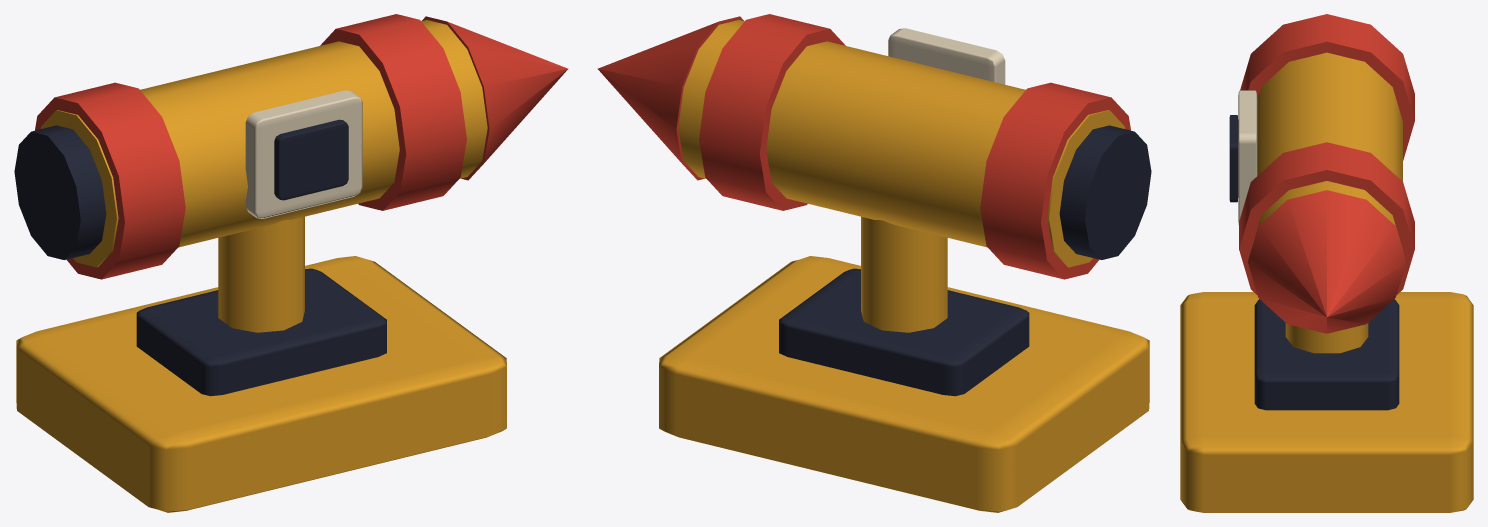
The model's file is rocket.glb.
3 views of the same model, side by side, from view 1: azimuth 30°, elevation 25°; view 2: azimuth 150°, elevation 25°; view 3: azimuth 270°, elevation 25° (orthographic). The views are drawn at different scales.
Parts seen in each view (by area): view 1: rocket_pickup; view 2: rocket_pickup; view 3: rocket_pickup.
Part boxes in pixels (<box>): rocket_pickup: <box>14,14,568,512</box>; rocket_pickup: <box>597,14,1151,512</box>; rocket_pickup: <box>1180,14,1473,512</box>.
Size of the model in its own units: 1.63 by 1.09 by 0.85.
